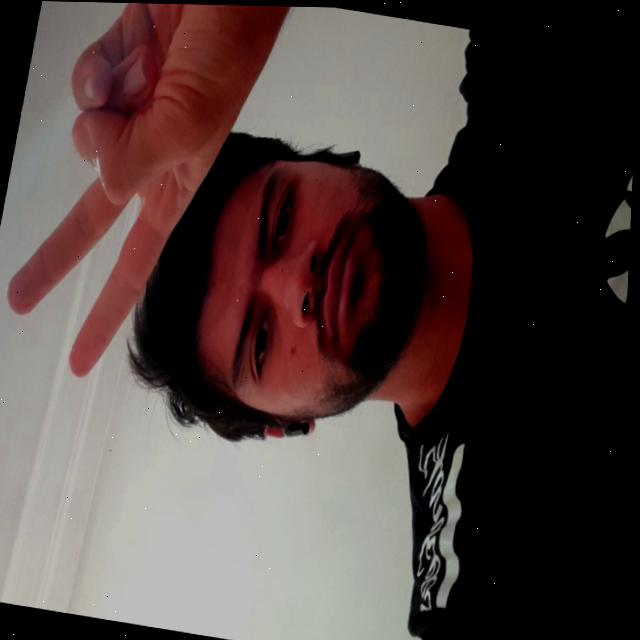Head: (109, 111, 452, 466)
Two: (0, 0, 285, 409)
